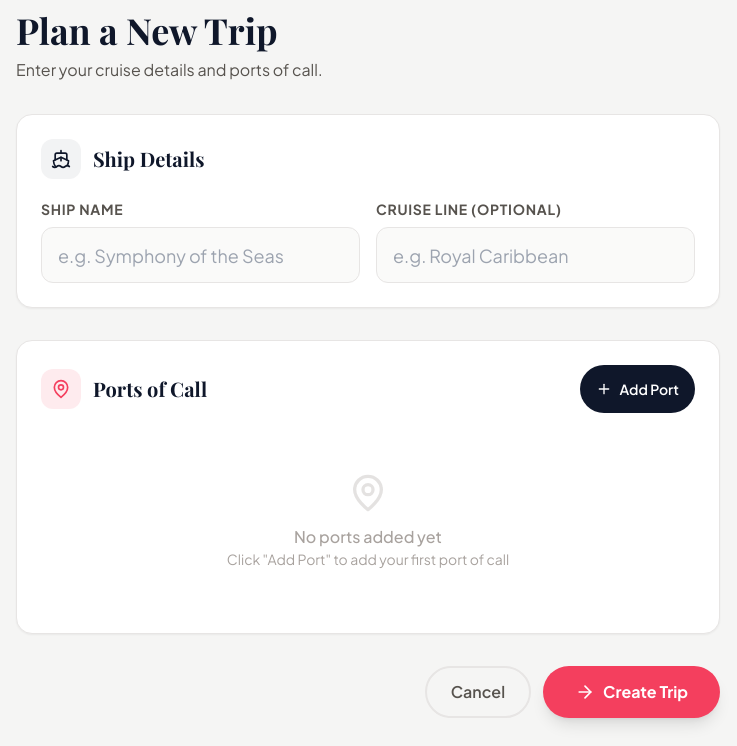
Test: TripSetup — datetime picker › departure date input min matches arrival date when arrival is set (no +5 min gap)
Click the button with test id "add-port-btn": point(637, 389) [580,365,695,413]
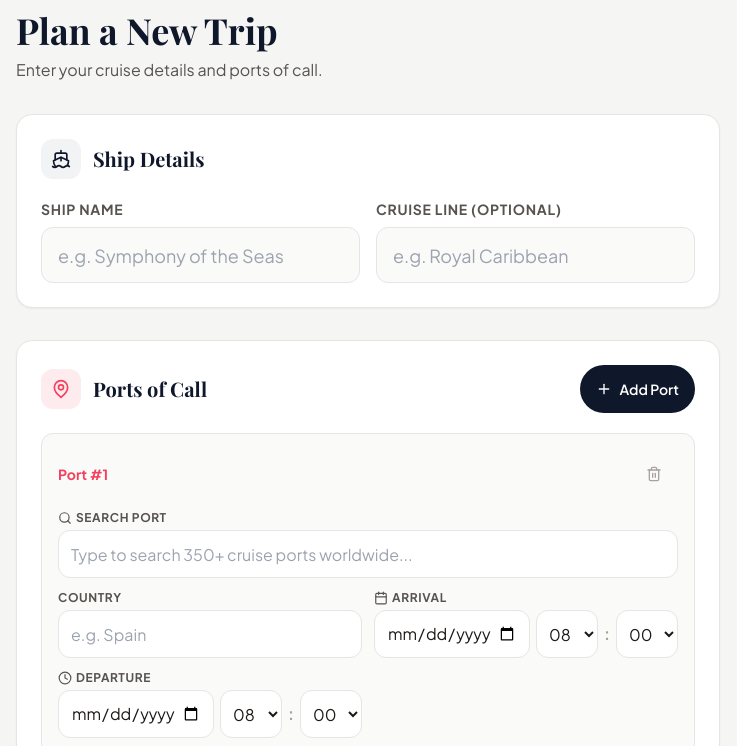
Check: the date field with test id "port-arrival-0-date" is shown
Note: Set arrival via the date sub-input of the DateTimePicker
In the date field with test id "port-arrival-0-date": point(452, 634) [374,610,530,658], type "2027-05-10"
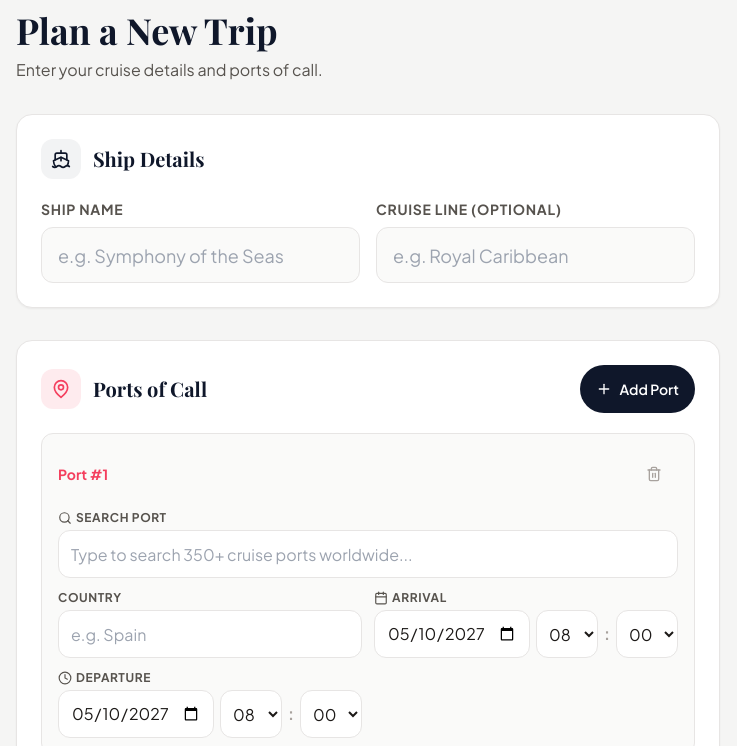
Check: the date field with test id "port-departure-0-date" has attribute min="2027-05-10", box [58,690,214,738]
